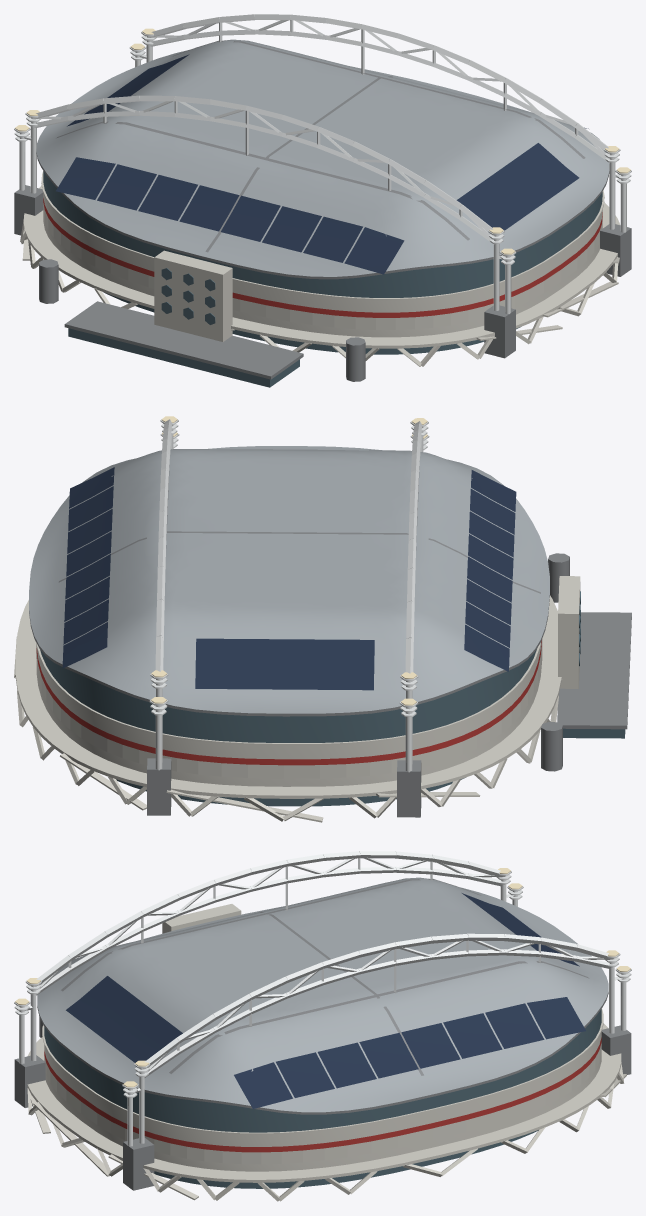
The model's file is johan-cruijff-arena-far.glb.
3 views of the same model, one above another, from view 1: azimuth 30°, elevation 25°; view 2: azimuth 150°, elevation 25°; view 3: azimuth 270°, elevation 25° (orthographic). The views are drawn at different scales.
Parts seen in each view (by area): view 1: johan-cruijff-arena-0-roof, johan-cruijff-arena-0-concrete, johan-cruijff-arena-0-solar, johan-cruijff-arena-0-truss, johan-cruijff-arena-0-concrete_dark, johan-cruijff-arena-0-glass, johan-cruijff-arena-0-red, johan-cruijff-arena-0-light; view 2: johan-cruijff-arena-0-roof, johan-cruijff-arena-0-concrete, johan-cruijff-arena-0-solar, johan-cruijff-arena-0-glass, johan-cruijff-arena-0-concrete_dark, johan-cruijff-arena-0-truss, johan-cruijff-arena-0-red, johan-cruijff-arena-0-light; view 3: johan-cruijff-arena-0-roof, johan-cruijff-arena-0-concrete, johan-cruijff-arena-0-truss, johan-cruijff-arena-0-solar, johan-cruijff-arena-0-glass, johan-cruijff-arena-0-concrete_dark, johan-cruijff-arena-0-red, johan-cruijff-arena-0-light.
Part boxes in pixels (x1,y1,x2,y2): johan-cruijff-arena-0-roof: (36, 39, 609, 276); johan-cruijff-arena-0-concrete: (20, 171, 620, 366); johan-cruijff-arena-0-solar: (56, 54, 588, 274); johan-cruijff-arena-0-truss: (14, 14, 631, 313); johan-cruijff-arena-0-concrete_dark: (14, 40, 631, 381); johan-cruijff-arena-0-glass: (43, 171, 602, 387); johan-cruijff-arena-0-red: (43, 198, 602, 317); johan-cruijff-arena-0-light: (15, 28, 630, 254); johan-cruijff-arena-0-roof: (29, 446, 549, 713); johan-cruijff-arena-0-concrete: (14, 576, 580, 822); johan-cruijff-arena-0-solar: (62, 467, 516, 690); johan-cruijff-arena-0-glass: (40, 591, 625, 806); johan-cruijff-arena-0-concrete_dark: (29, 461, 631, 817); johan-cruijff-arena-0-truss: (149, 419, 429, 772); johan-cruijff-arena-0-red: (36, 640, 541, 765); johan-cruijff-arena-0-light: (151, 416, 427, 705); johan-cruijff-arena-0-roof: (37, 877, 608, 1112); johan-cruijff-arena-0-concrete: (27, 904, 626, 1201); johan-cruijff-arena-0-truss: (14, 851, 631, 1146); johan-cruijff-arena-0-solar: (66, 893, 585, 1108); johan-cruijff-arena-0-glass: (44, 1009, 601, 1188); johan-cruijff-arena-0-concrete_dark: (14, 879, 631, 1190); johan-cruijff-arena-0-red: (44, 1037, 601, 1152); johan-cruijff-arena-0-light: (15, 868, 630, 1087).
Bounding box in the file's own units: 225 × 75.35 × 232.
